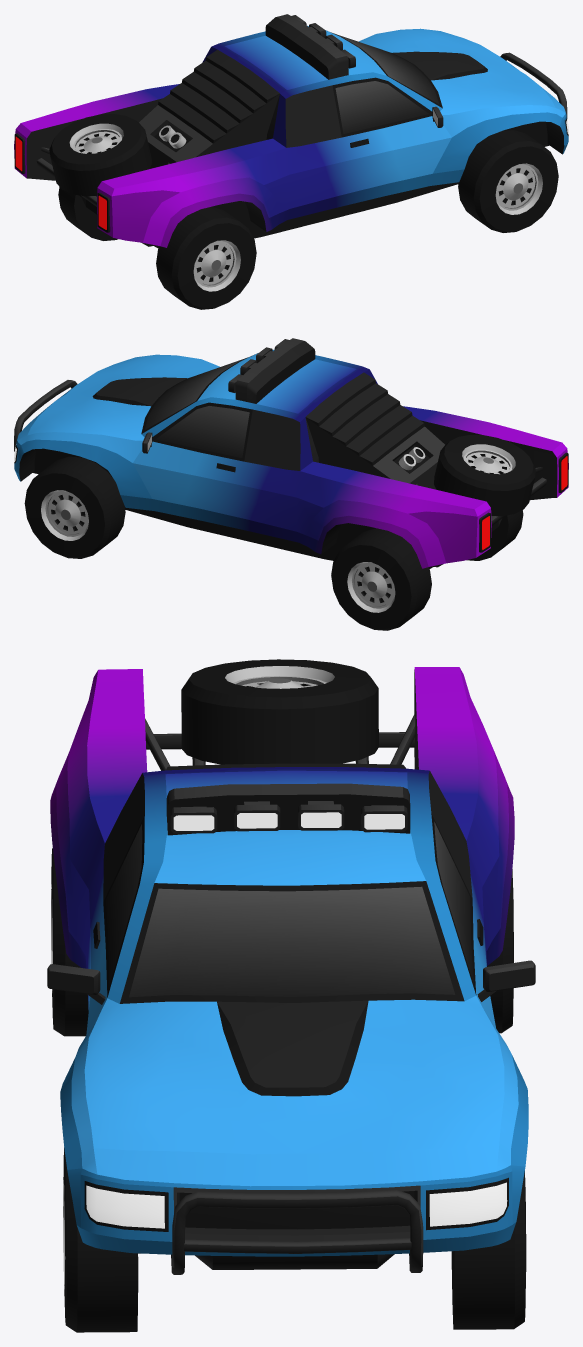
The model's file is RaceCar_008.glb.
3 views of the same model, one above another, from view 1: azimuth 30°, elevation 25°; view 2: azimuth 150°, elevation 25°; view 3: azimuth 270°, elevation 25° (orthographic). The views are drawn at different scales.
Parts seen in each view (by area): view 1: RaceCar_008, wheel_1_RaceCar_008_Wheel_1R, wheel_3_RaceCar_008_Wheel_2R, wheel_2_RaceCar_008_Wheel_2L; view 2: RaceCar_008, wheel_0_RaceCar_008_Wheel_1L, wheel_2_RaceCar_008_Wheel_2L, wheel_3_RaceCar_008_Wheel_2R; view 3: RaceCar_008, wheel_1_RaceCar_008_Wheel_1R, wheel_0_RaceCar_008_Wheel_1L, wheel_3_RaceCar_008_Wheel_2R, wheel_2_RaceCar_008_Wheel_2L.
Part boxes in pixels (left/top/right/bottom): RaceCar_008: left=14, top=14, right=568, bottom=247; wheel_1_RaceCar_008_Wheel_1R: left=458, top=130, right=558, bottom=232; wheel_3_RaceCar_008_Wheel_2R: left=156, top=206, right=256, bottom=309; wheel_2_RaceCar_008_Wheel_2L: left=58, top=187, right=118, bottom=240; RaceCar_008: left=14, top=338, right=568, bottom=568; wheel_0_RaceCar_008_Wheel_1L: left=24, top=456, right=125, bottom=558; wheel_2_RaceCar_008_Wheel_2L: left=331, top=528, right=431, bottom=630; wheel_3_RaceCar_008_Wheel_2R: left=467, top=510, right=523, bottom=560; RaceCar_008: left=47, top=659, right=535, bottom=1274; wheel_1_RaceCar_008_Wheel_1R: left=63, top=1147, right=138, bottom=1332; wheel_0_RaceCar_008_Wheel_1L: left=451, top=1171, right=526, bottom=1329; wheel_3_RaceCar_008_Wheel_2R: left=51, top=848, right=88, bottom=1036; wheel_2_RaceCar_008_Wheel_2L: left=487, top=869, right=513, bottom=1033.
Bounding box in the file's own units: 4.79 × 1.83 × 2.09.
2 materials, 2 textured.
